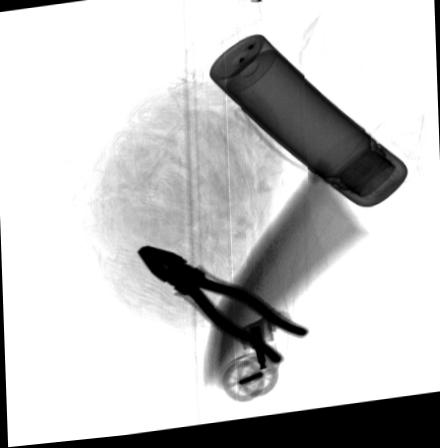Pliers: (134, 247, 309, 372)
